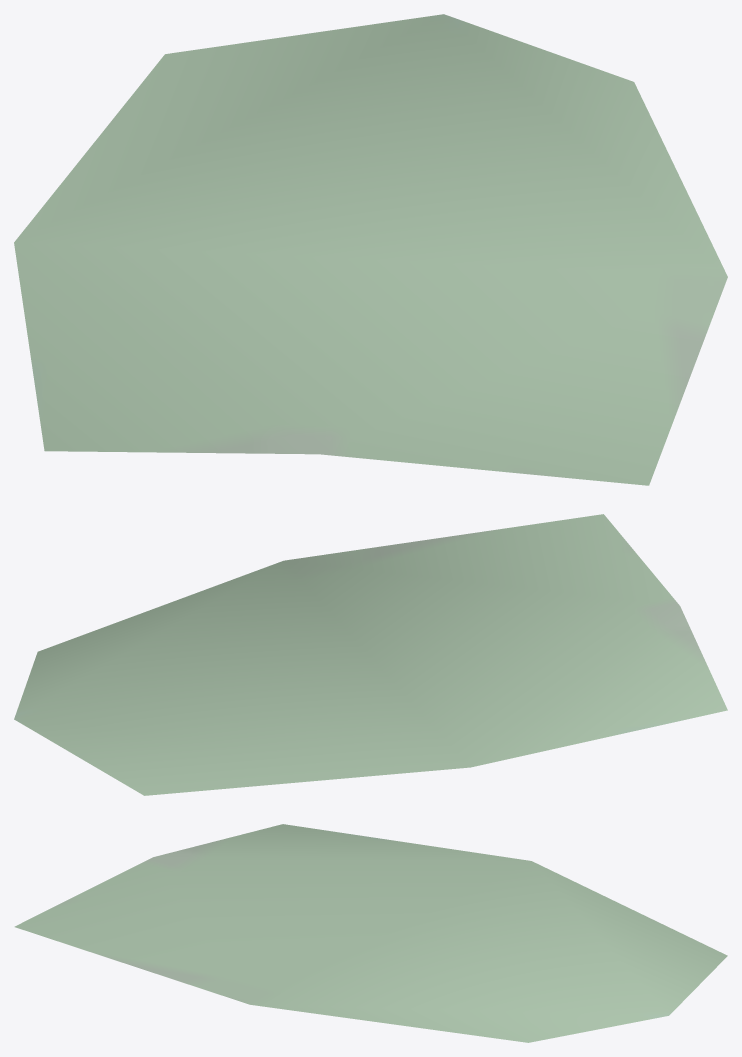
Rendered from TROLLHOLE02_HOLECAP140.fbx.
3 views of the same model, one above another, from view 1: azimuth 30°, elevation 25°; view 2: azimuth 150°, elevation 25°; view 3: azimuth 270°, elevation 25° (orthographic). The views are drawn at different scales.
Parts seen in each view (by area): view 1: TROLLHOLE02_HOLECAP140; view 2: TROLLHOLE02_HOLECAP140; view 3: TROLLHOLE02_HOLECAP140.
Boxes of the visible parts, x1,y1,x2,y2 form: TROLLHOLE02_HOLECAP140: (14, 14, 727, 485); TROLLHOLE02_HOLECAP140: (14, 514, 727, 795); TROLLHOLE02_HOLECAP140: (14, 824, 727, 1042).
Size of the model in its own units: 21505 by 1039 by 26962.
1 material, 1 textured.
